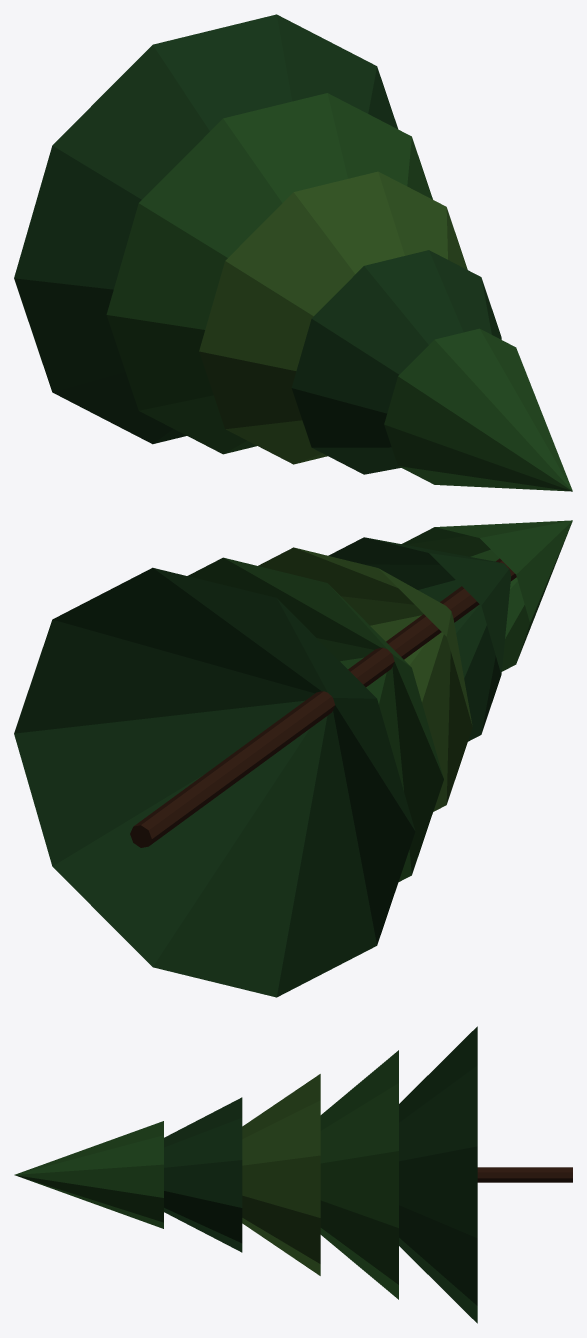
File: TreeCrown2.obj
3 views of the same model, one above another, from view 1: azimuth 30°, elevation 25°; view 2: azimuth 150°, elevation 25°; view 3: azimuth 270°, elevation 25° (orthographic). The views are drawn at different scales.
Visible parts, largest first — view 1: TreeCrown2; view 2: TreeCrown2; view 3: TreeCrown2.
Part boxes in pixels (<box>): TreeCrown2: <box>14,14,572,491</box>; TreeCrown2: <box>14,520,572,997</box>; TreeCrown2: <box>14,1026,572,1323</box>.
Bounding box in the file's own units: 440 × 418 × 820.
